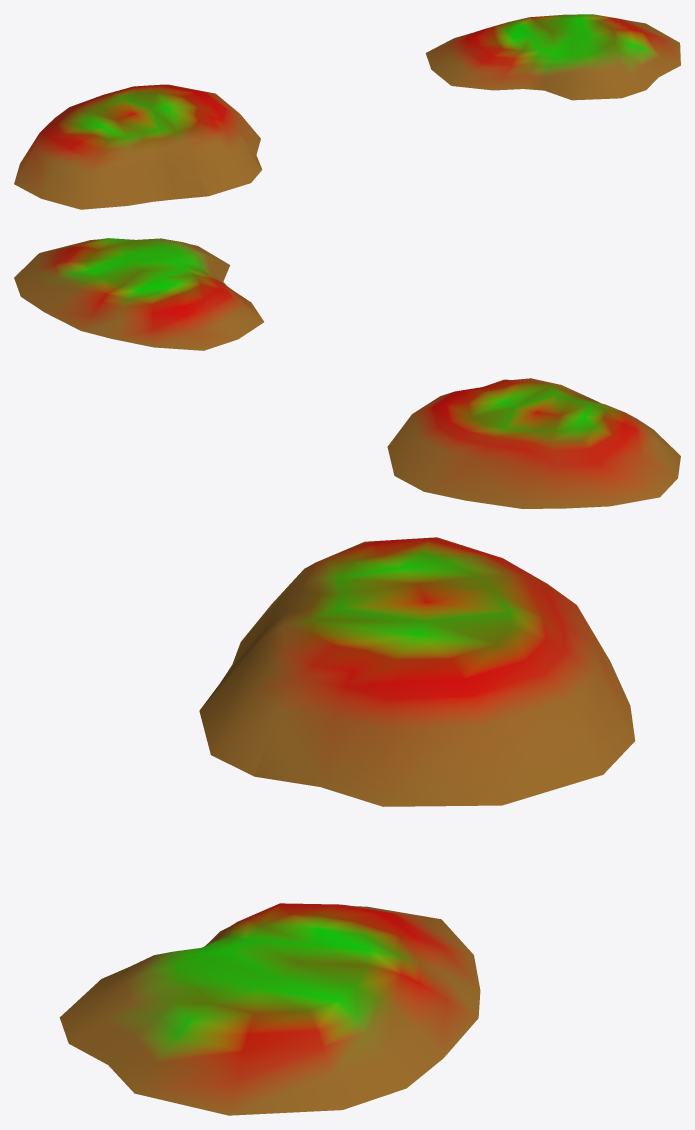
File: pref_sm_beach_winter_sands_e_lv3.fbx
3 views of the same model, one above another, from view 1: azimuth 30°, elevation 25°; view 2: azimuth 150°, elevation 25°; view 3: azimuth 270°, elevation 25° (orthographic). The views are drawn at different scales.
Visible parts, largest first — view 1: pref_sm_beach_winter_sands_e_lv3; view 2: pref_sm_beach_winter_sands_e_lv3; view 3: pref_sm_beach_winter_sands_e_lv3.
Boxes of the visible parts, box(x1,y1,x2,y2) form: pref_sm_beach_winter_sands_e_lv3: box(14, 14, 680, 209); pref_sm_beach_winter_sands_e_lv3: box(14, 238, 680, 508); pref_sm_beach_winter_sands_e_lv3: box(59, 537, 635, 1115).
Bounding box in the file's own units: 42.85 × 3.65 × 17.44.
